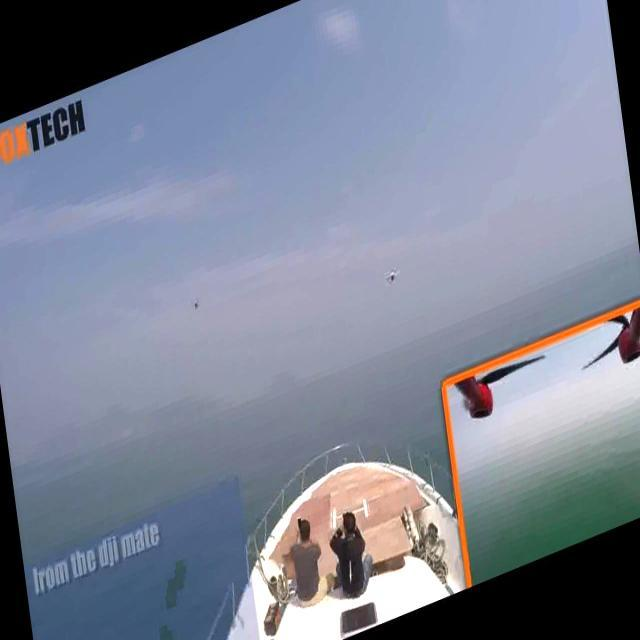drone: (380, 258, 405, 290), (185, 292, 212, 318)
